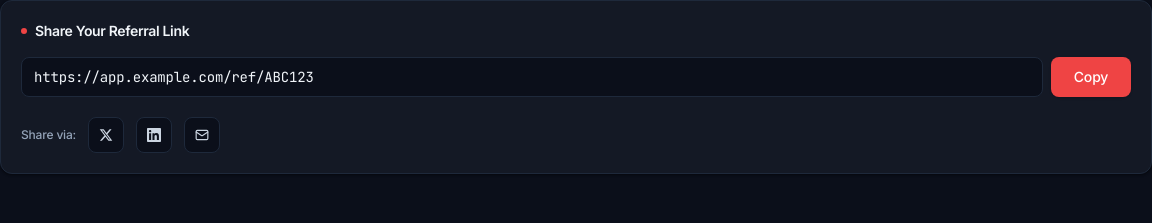
Test: ReferralWidget › shows success state when link is copied
This screenshot has width=1152, height=223.
Click the button with aria-label "copy referral link" at (1091, 77), box [1051, 57, 1131, 97]
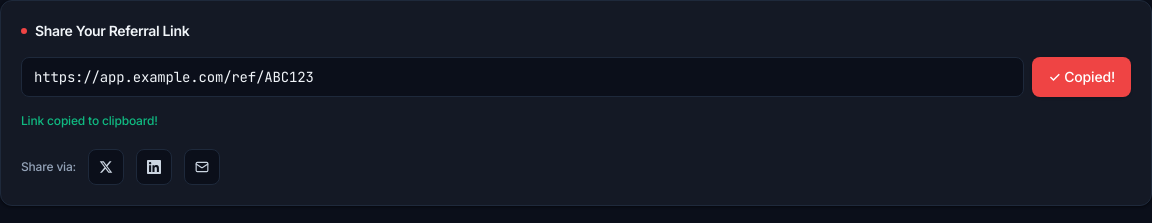
Now the button with aria-label "copy referral link" shows "Copied", box [1032, 57, 1131, 97]
